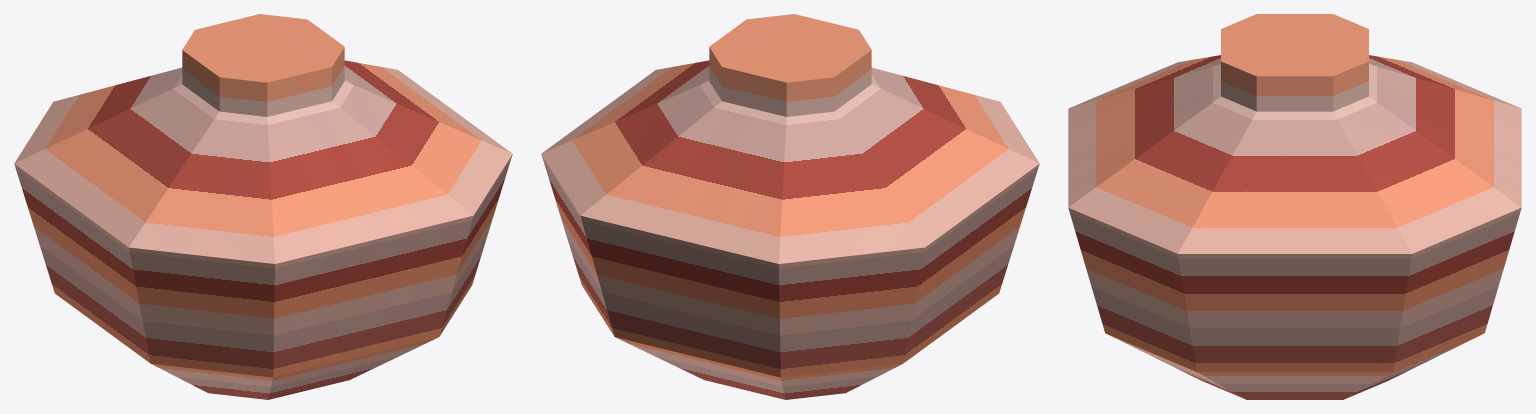
File: orient_rice_lantern.obj
3 renders of one model, left to right at view 1: azimuth 30°, elevation 25°; view 2: azimuth 150°, elevation 25°; view 3: azimuth 270°, elevation 25°, orthographic. The views are drawn at different scales.
Parts seen in each view (by area): view 1: Cube; view 2: Cube; view 3: Cube.
Boxes of the visible parts, x1=… form: Cube: x1=14, y1=14, x2=512, y2=399; Cube: x1=541, y1=14, x2=1039, y2=399; Cube: x1=1068, y1=14, x2=1521, y2=399.
Bounding box in the file's own units: 1 × 0.7674 × 1.
